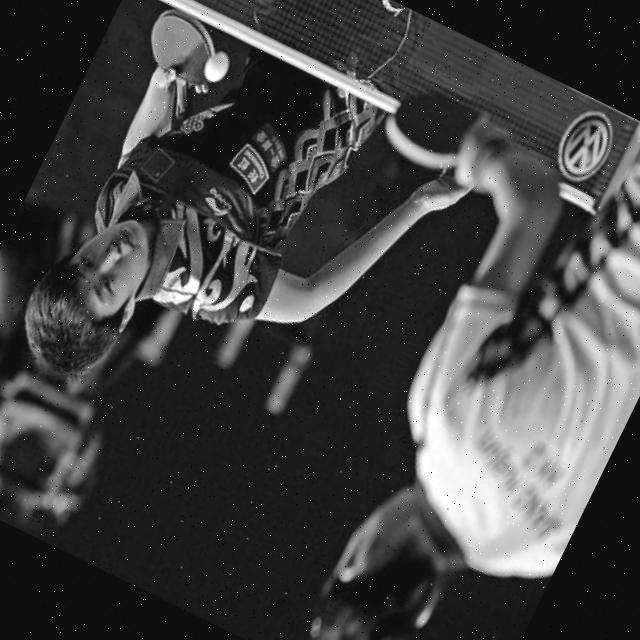ping-pong-ball: (197, 44, 234, 88)
